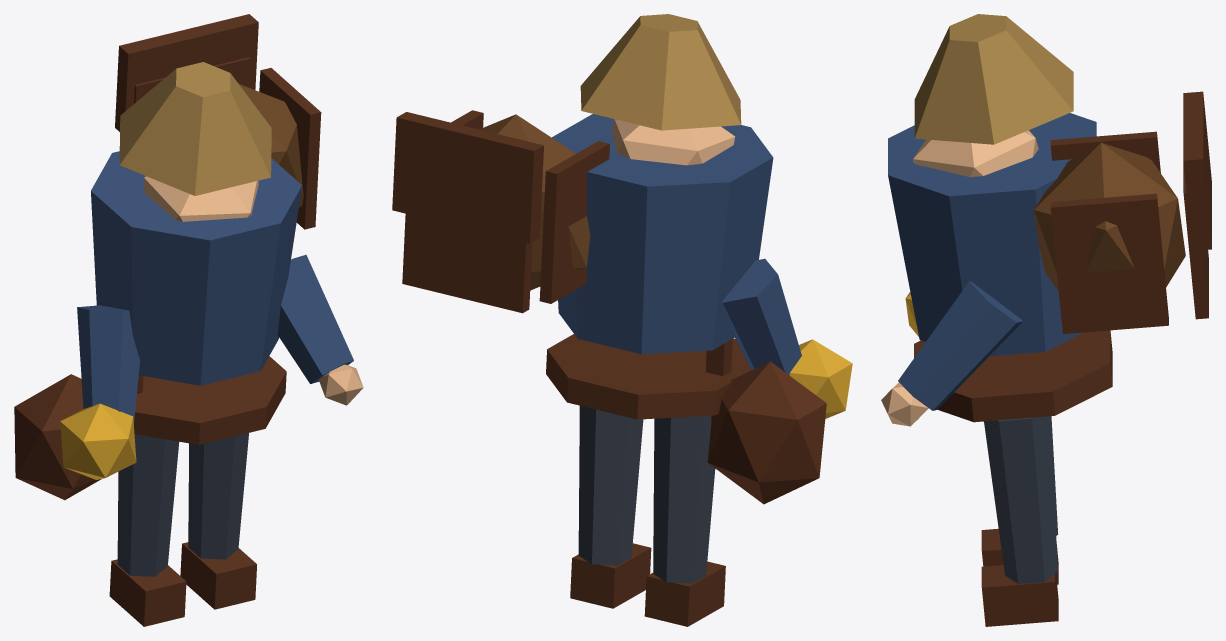
File: npcpose_merchant_idle_06.glb
The picture shows the model from 3 angles, left to right: view 1: azimuth 30°, elevation 25°; view 2: azimuth 150°, elevation 25°; view 3: azimuth 270°, elevation 25°; orthographic projection. The views are drawn at different scales.
Parts seen in each view (by area): view 1: npcpose; view 2: npcpose; view 3: npcpose.
Part boxes in pixels (left/top/right/bottom): npcpose: left=14, top=14, right=363, bottom=626; npcpose: left=392, top=14, right=852, bottom=626; npcpose: left=881, top=14, right=1211, bottom=626.
Size of the model in its own units: 1.2 by 1.9 by 0.9927.
